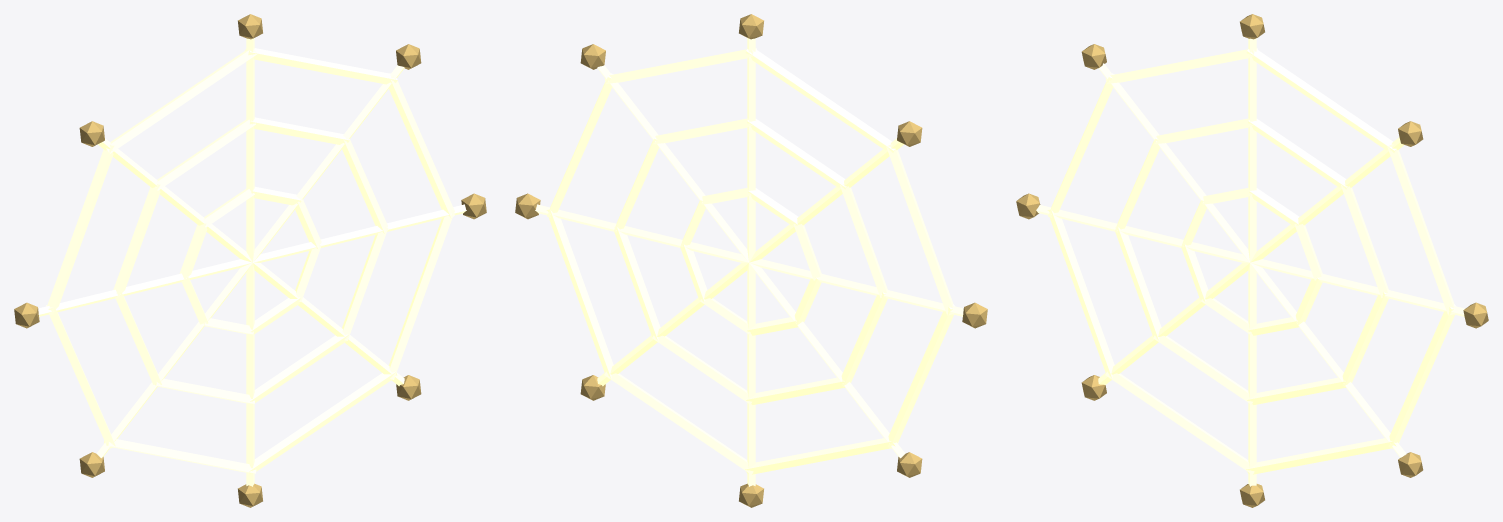
The model's file is Proj_AegisNet.fbx.
The picture shows the model from 3 angles, left to right: view 1: azimuth 30°, elevation 25°; view 2: azimuth 150°, elevation 25°; view 3: azimuth 330°, elevation 25°; orthographic projection.
Visible parts, largest first — view 1: PNT_Ring2, PNT_Ring1, PNT_Ring0, PNT_Spoke6, PNT_Spoke2, PNT_Spoke5, PNT_Spoke4, PNT_Spoke0, PNT_Spoke1, PNT_Spoke7, PNT_Spoke3; view 2: PNT_Ring2, PNT_Ring1, PNT_Ring0, PNT_Spoke2, PNT_Spoke6, PNT_Spoke0, PNT_Spoke5, PNT_Spoke1, PNT_Spoke4, PNT_Spoke7, PNT_Spoke3; view 3: PNT_Ring2, PNT_Ring1, PNT_Ring0, PNT_Spoke2, PNT_Spoke6, PNT_Spoke4, PNT_Spoke3, PNT_Spoke7, PNT_Spoke0, PNT_Spoke5, PNT_Spoke1.
Boxes of the visible parts, bbox=[...] form: PNT_Ring2: bbox=[46, 48, 454, 475]; PNT_Ring1: bbox=[113, 117, 388, 404]; PNT_Ring0: bbox=[179, 186, 321, 334]; PNT_Spoke6: bbox=[246, 263, 254, 486]; PNT_Spoke2: bbox=[246, 38, 254, 262]; PNT_Spoke5: bbox=[96, 263, 252, 458]; PNT_Spoke4: bbox=[38, 259, 252, 316]; PNT_Spoke0: bbox=[253, 204, 466, 262]; PNT_Spoke1: bbox=[253, 65, 404, 261]; PNT_Spoke7: bbox=[253, 262, 404, 386]; PNT_Spoke3: bbox=[98, 138, 252, 262]; PNT_Ring2: bbox=[546, 48, 954, 474]; PNT_Ring1: bbox=[613, 118, 887, 404]; PNT_Ring0: bbox=[680, 187, 821, 335]; PNT_Spoke2: bbox=[747, 38, 755, 262]; PNT_Spoke6: bbox=[747, 263, 755, 486]; PNT_Spoke0: bbox=[535, 204, 748, 262]; PNT_Spoke5: bbox=[749, 263, 905, 458]; PNT_Spoke1: bbox=[597, 65, 748, 261]; PNT_Spoke4: bbox=[749, 259, 963, 316]; PNT_Spoke7: bbox=[597, 262, 748, 386]; PNT_Spoke3: bbox=[749, 138, 903, 262]; PNT_Ring2: bbox=[1047, 48, 1455, 474]; PNT_Ring1: bbox=[1114, 118, 1388, 404]; PNT_Ring0: bbox=[1181, 187, 1322, 335]; PNT_Spoke2: bbox=[1248, 38, 1256, 262]; PNT_Spoke6: bbox=[1248, 263, 1256, 486]; PNT_Spoke4: bbox=[1036, 205, 1249, 262]; PNT_Spoke3: bbox=[1098, 63, 1249, 261]; PNT_Spoke7: bbox=[1250, 263, 1406, 457]; PNT_Spoke0: bbox=[1250, 259, 1464, 316]; PNT_Spoke5: bbox=[1098, 262, 1249, 384]; PNT_Spoke1: bbox=[1250, 137, 1403, 262].
Bounding box in the file's own units: 0.5668 × 0.57 × 0.0255.
